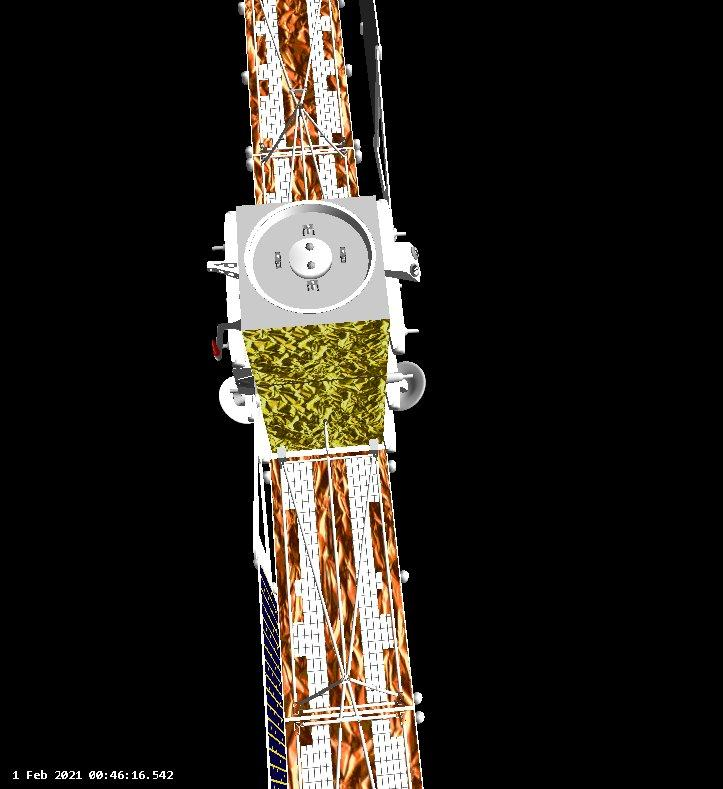antenna: (212, 368, 260, 428), (384, 358, 431, 418), (409, 261, 419, 276), (411, 246, 421, 260)
body: (237, 192, 391, 454)
solar: (265, 452, 429, 789), (227, 0, 374, 205), (255, 562, 292, 789)
